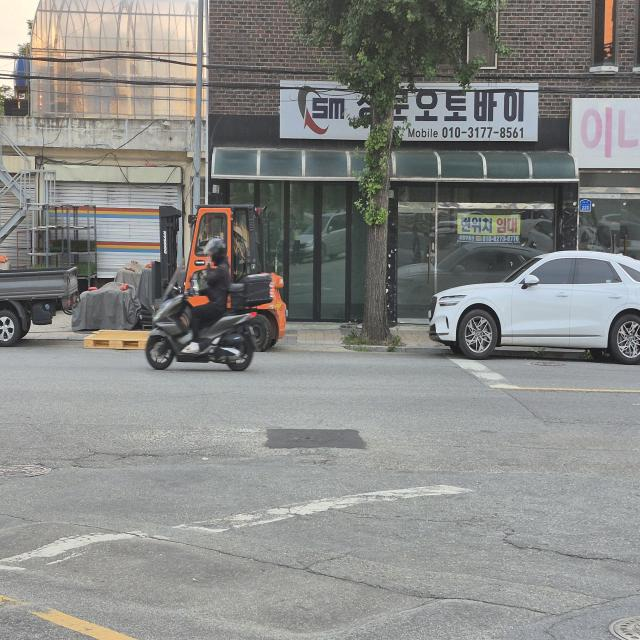car: (72, 203, 294, 346), (426, 249, 639, 362), (0, 126, 90, 342)
motorcycle: (142, 245, 266, 382)
